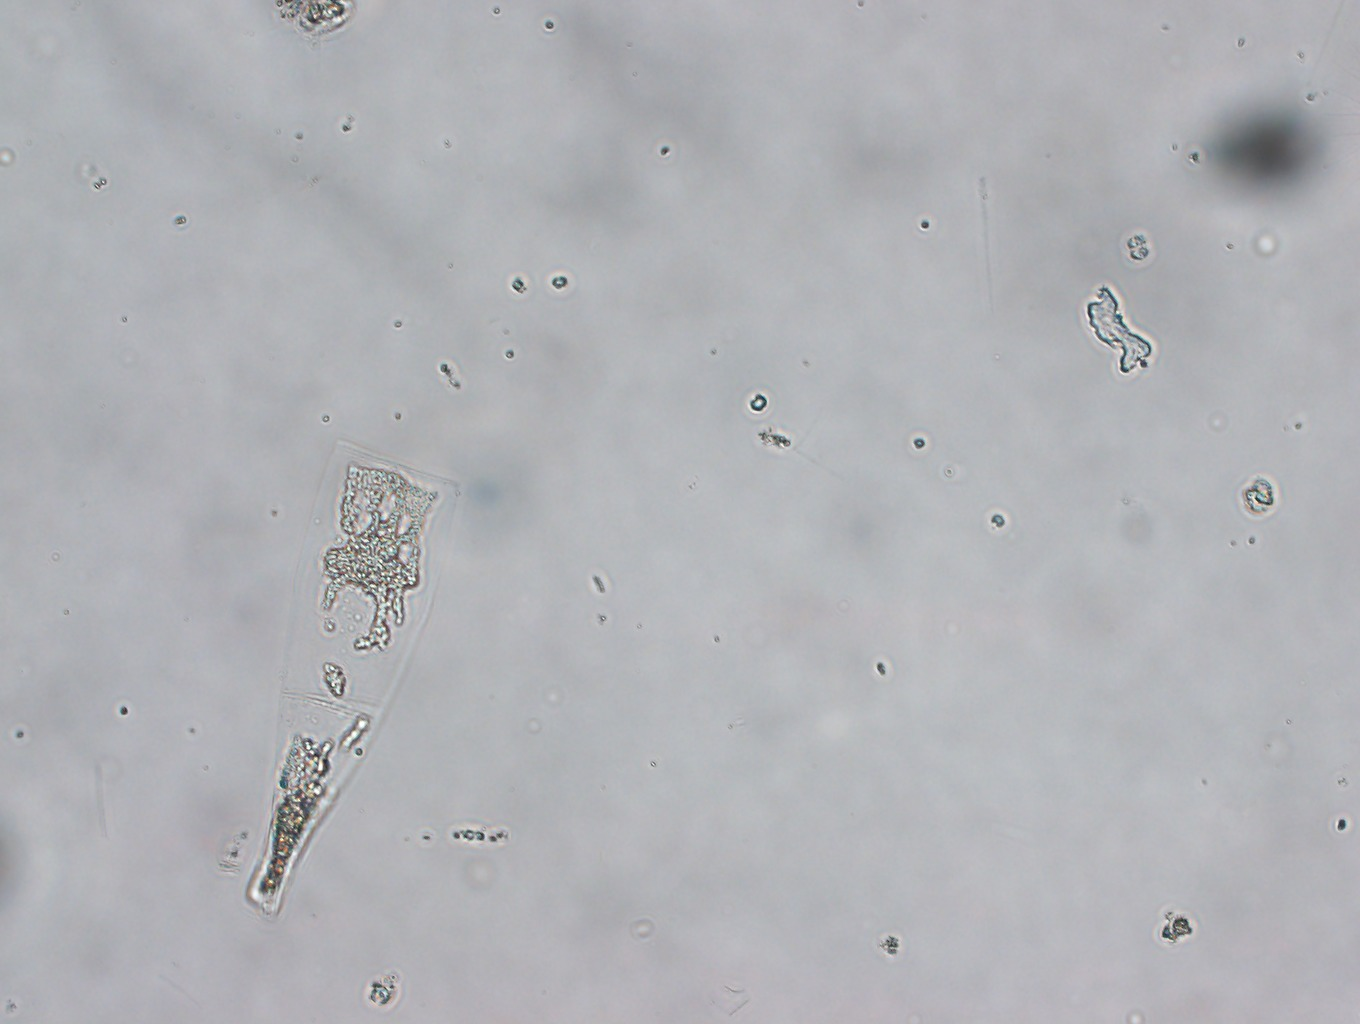helicotheca: (223, 424, 460, 920)
